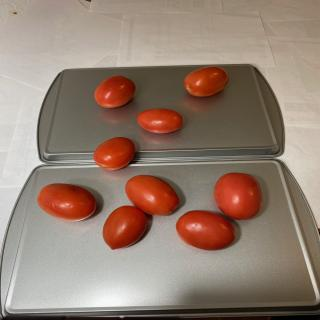Tomato: (175, 210, 236, 251), (213, 172, 263, 220), (37, 183, 97, 222), (125, 174, 179, 216), (102, 205, 148, 250), (183, 66, 229, 97), (93, 137, 136, 170), (94, 75, 136, 108), (136, 108, 183, 134)
